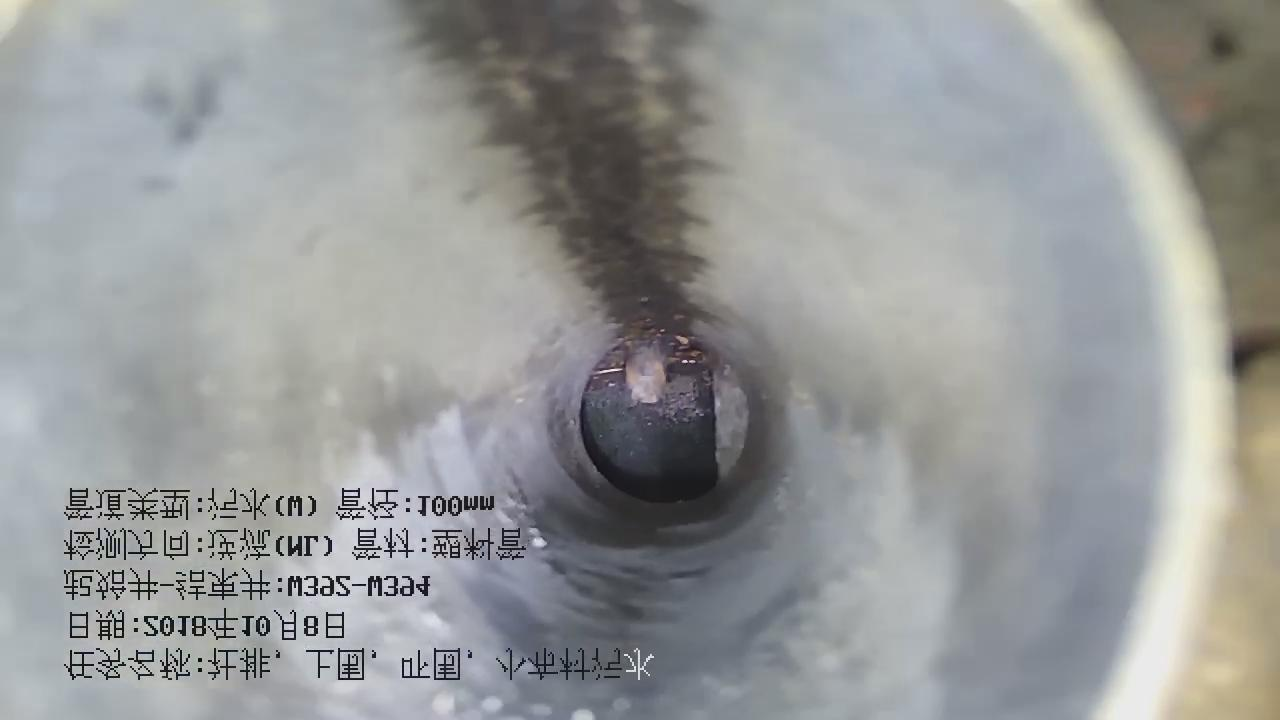CQBG: (714, 366, 748, 476)
